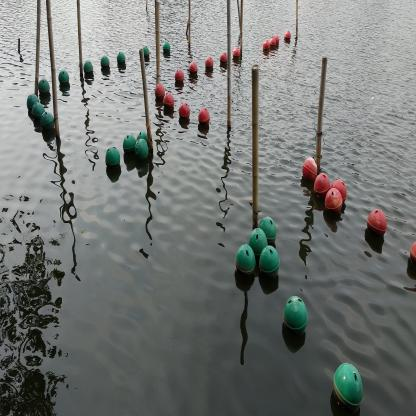green_buoy: (331, 361, 366, 410), (281, 296, 312, 340), (258, 247, 284, 288), (232, 245, 256, 282), (247, 226, 266, 254), (262, 214, 278, 247), (134, 139, 151, 165), (31, 101, 45, 129), (108, 149, 122, 173), (38, 76, 50, 99), (124, 135, 134, 162), (57, 68, 70, 88), (42, 113, 54, 134), (83, 61, 95, 82), (99, 55, 111, 74), (27, 92, 38, 110), (116, 52, 127, 69), (141, 46, 151, 62), (162, 40, 171, 55), (138, 132, 148, 140)
red_buoy: (367, 206, 385, 238), (313, 170, 328, 207), (327, 190, 344, 219), (333, 178, 350, 204), (301, 157, 317, 183), (198, 108, 212, 130), (178, 104, 192, 122), (164, 92, 174, 116), (172, 67, 184, 86), (154, 82, 164, 101), (189, 58, 198, 78), (220, 51, 228, 68), (206, 56, 214, 72), (284, 30, 292, 44), (264, 41, 271, 56), (232, 46, 239, 60), (271, 35, 277, 50)
